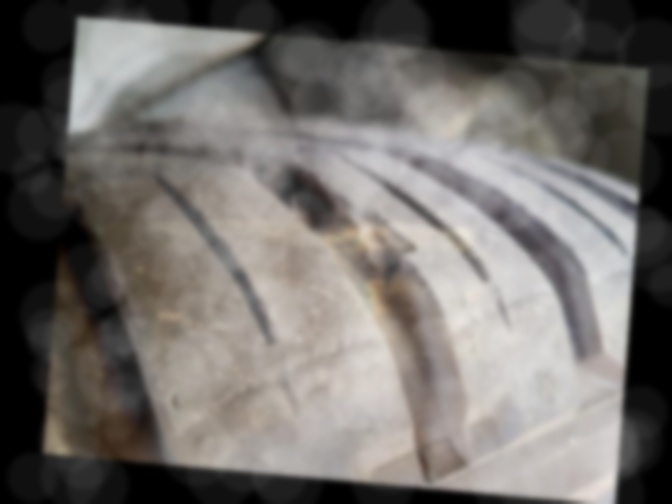temoin:90: (317, 188, 428, 298)
